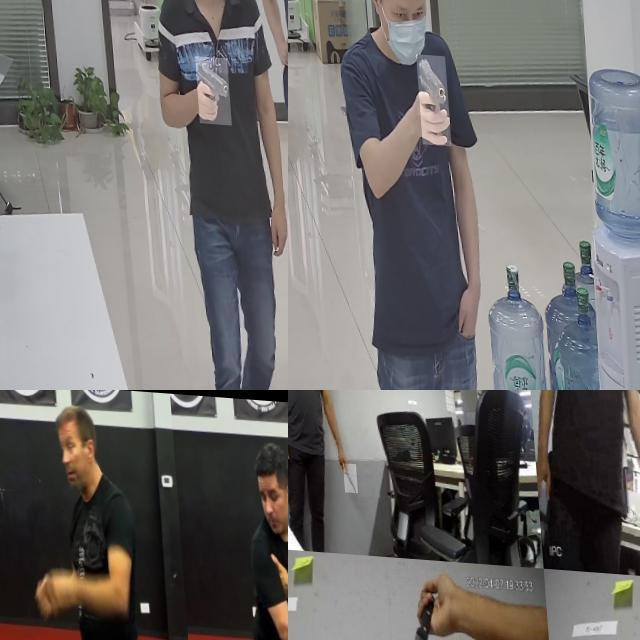-: (392, 583, 436, 640), (0, 616, 22, 640), (339, 461, 354, 491)
gun-knife-thesis - v11 Yolov5 augmented: (413, 49, 448, 141), (192, 52, 228, 121)
